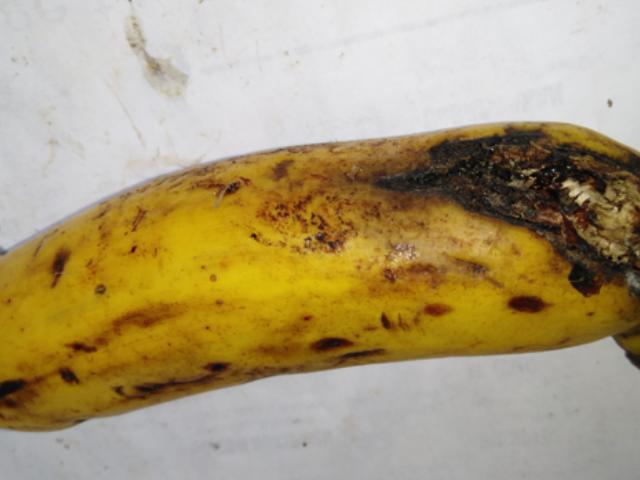ripe: (0, 90, 390, 474)
rotten: (341, 60, 639, 366)
